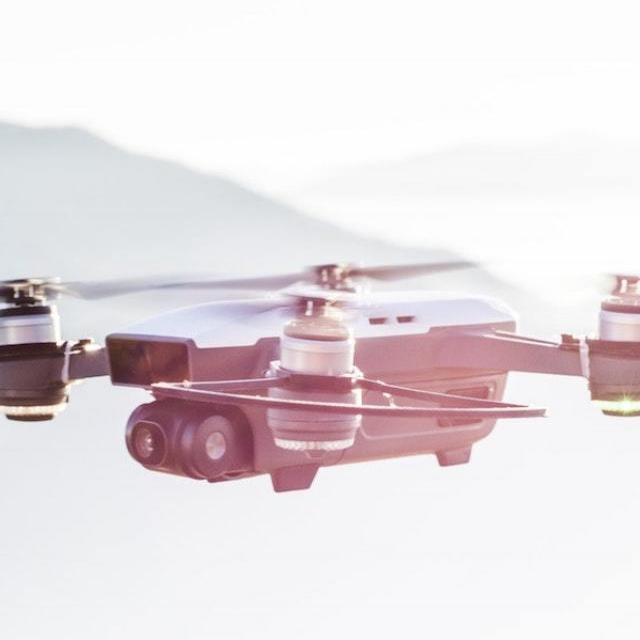drone: (0, 240, 640, 545)
